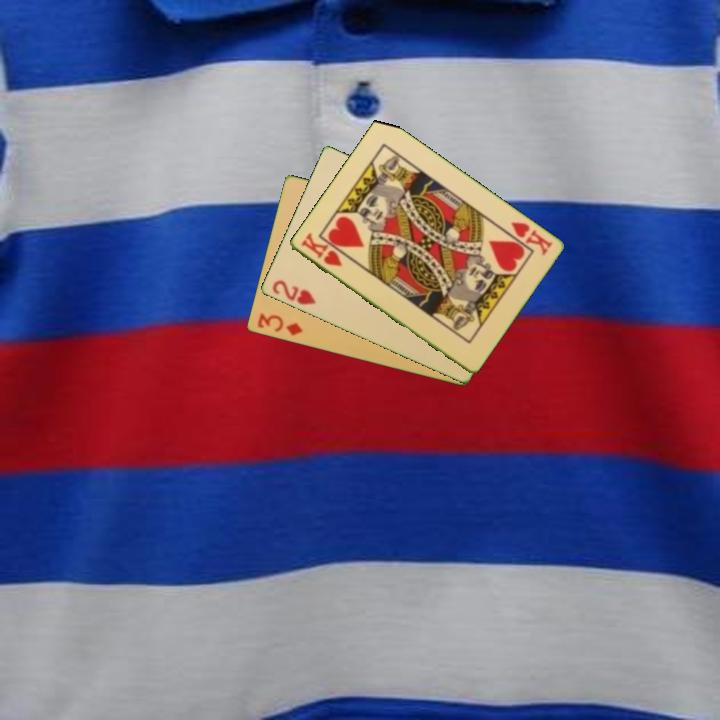2h: (268, 277, 319, 308)
3d: (254, 310, 305, 339)
Kh: (297, 229, 345, 269), (507, 218, 555, 258)
